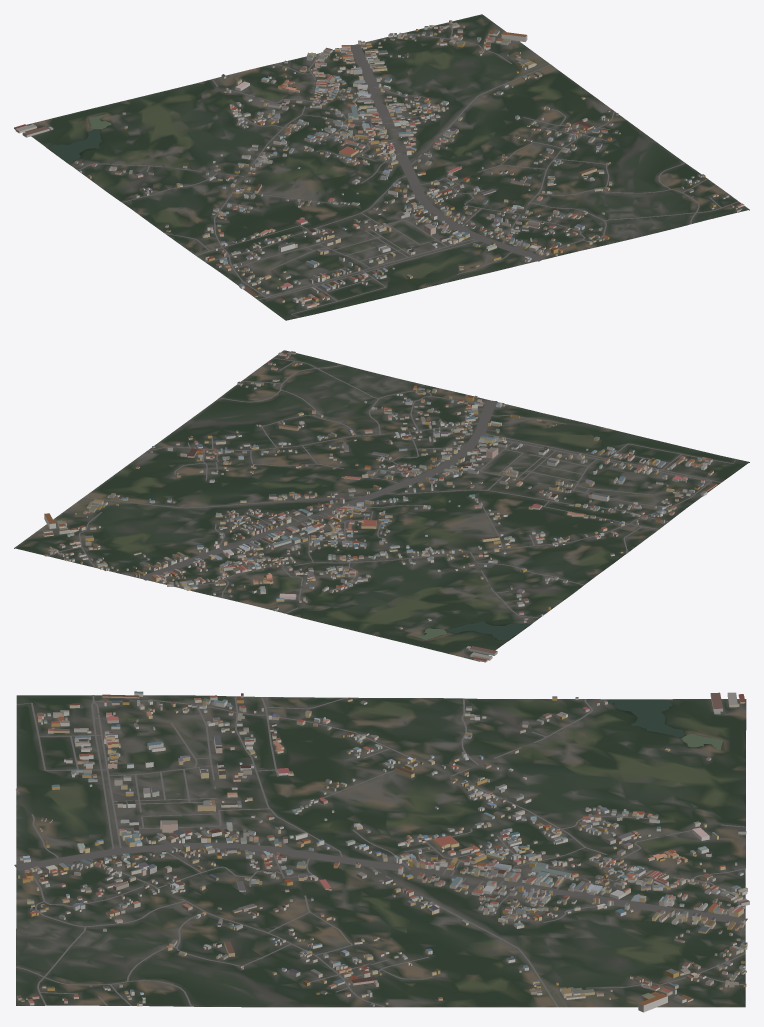
3 renders of one model, top to bottom at view 1: azimuth 30°, elevation 25°; view 2: azimuth 150°, elevation 25°; view 3: azimuth 270°, elevation 25°, orthographic. The views are drawn at different scales.
Parts seen in each view (by area): view 1: ground, buildings, roads, water; view 2: ground, buildings, roads, water; view 3: ground, buildings, roads, water.
Boxes of the visible parts, <box> form: ground: <box>25,14,749,320</box>; buildings: <box>14,20,744,308</box>; roads: <box>34,22,738,317</box>; water: <box>49,114,111,163</box>; ground: <box>14,350,749,661</box>; buildings: <box>43,351,717,662</box>; roads: <box>48,358,736,657</box>; water: <box>412,621,529,640</box>; ground: <box>16,695,746,1007</box>; buildings: <box>17,691,749,1012</box>; roads: <box>14,695,747,1007</box>; water: <box>607,699,723,750</box>.
Bounding box in the file's own units: 1441 × 24.09 × 1414.
